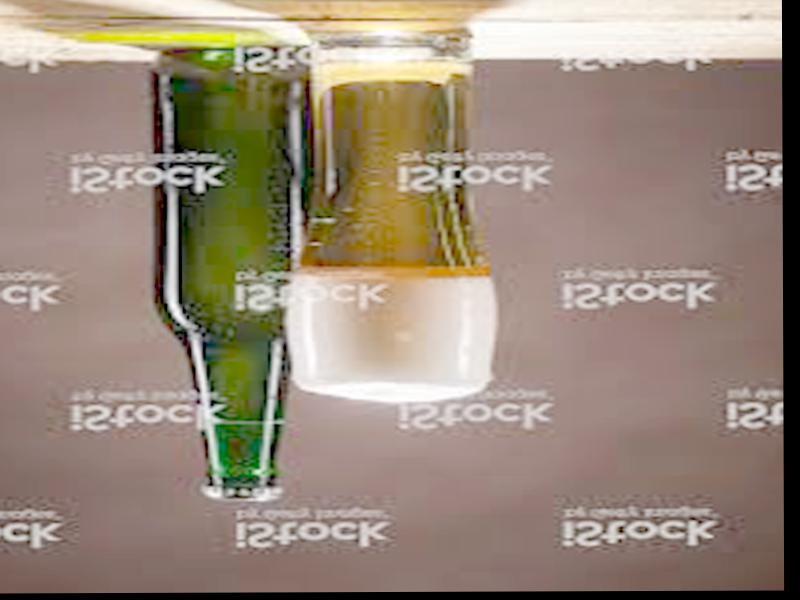Beer: (148, 44, 316, 500)
